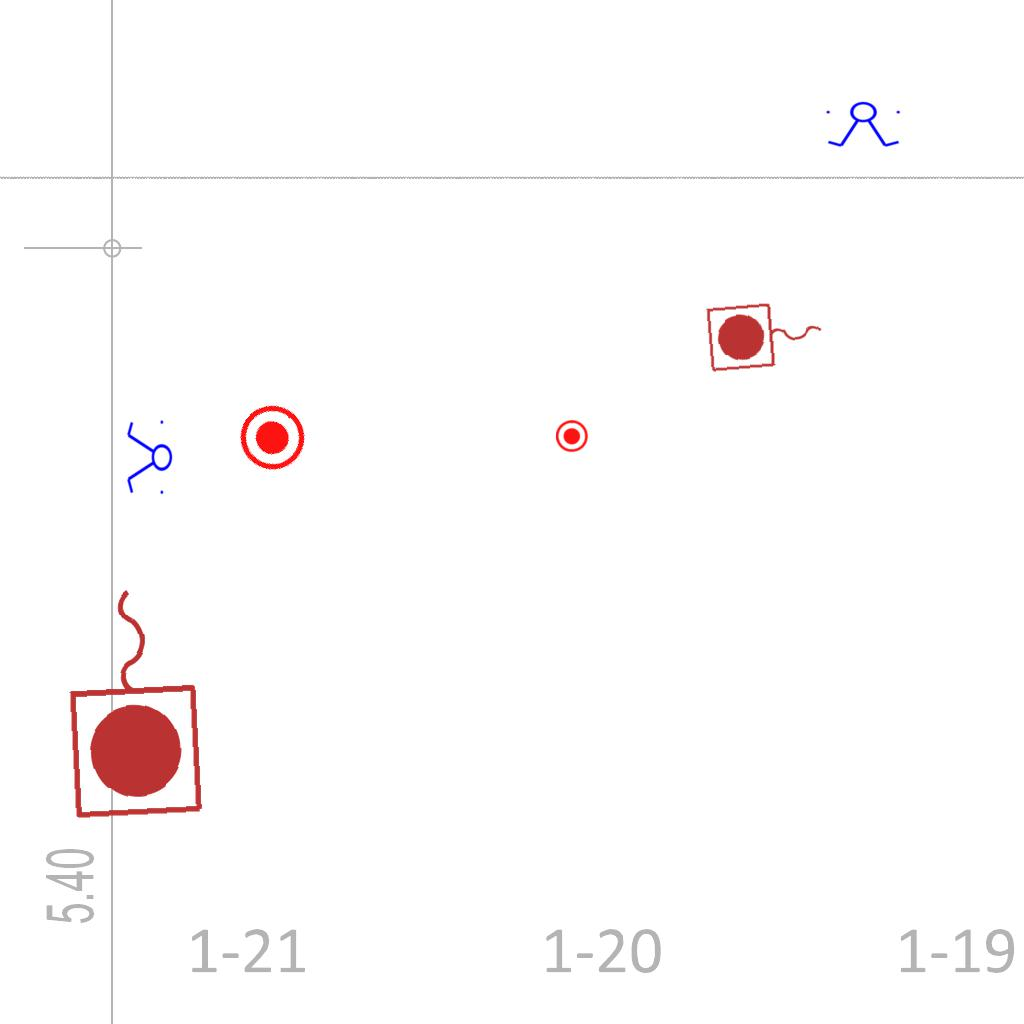Serienschalter: (822, 101, 906, 149), (125, 416, 173, 500)
Taster: (226, 392, 320, 486), (556, 420, 589, 453)
Zugtaster: (56, 575, 214, 827), (702, 294, 830, 378)
